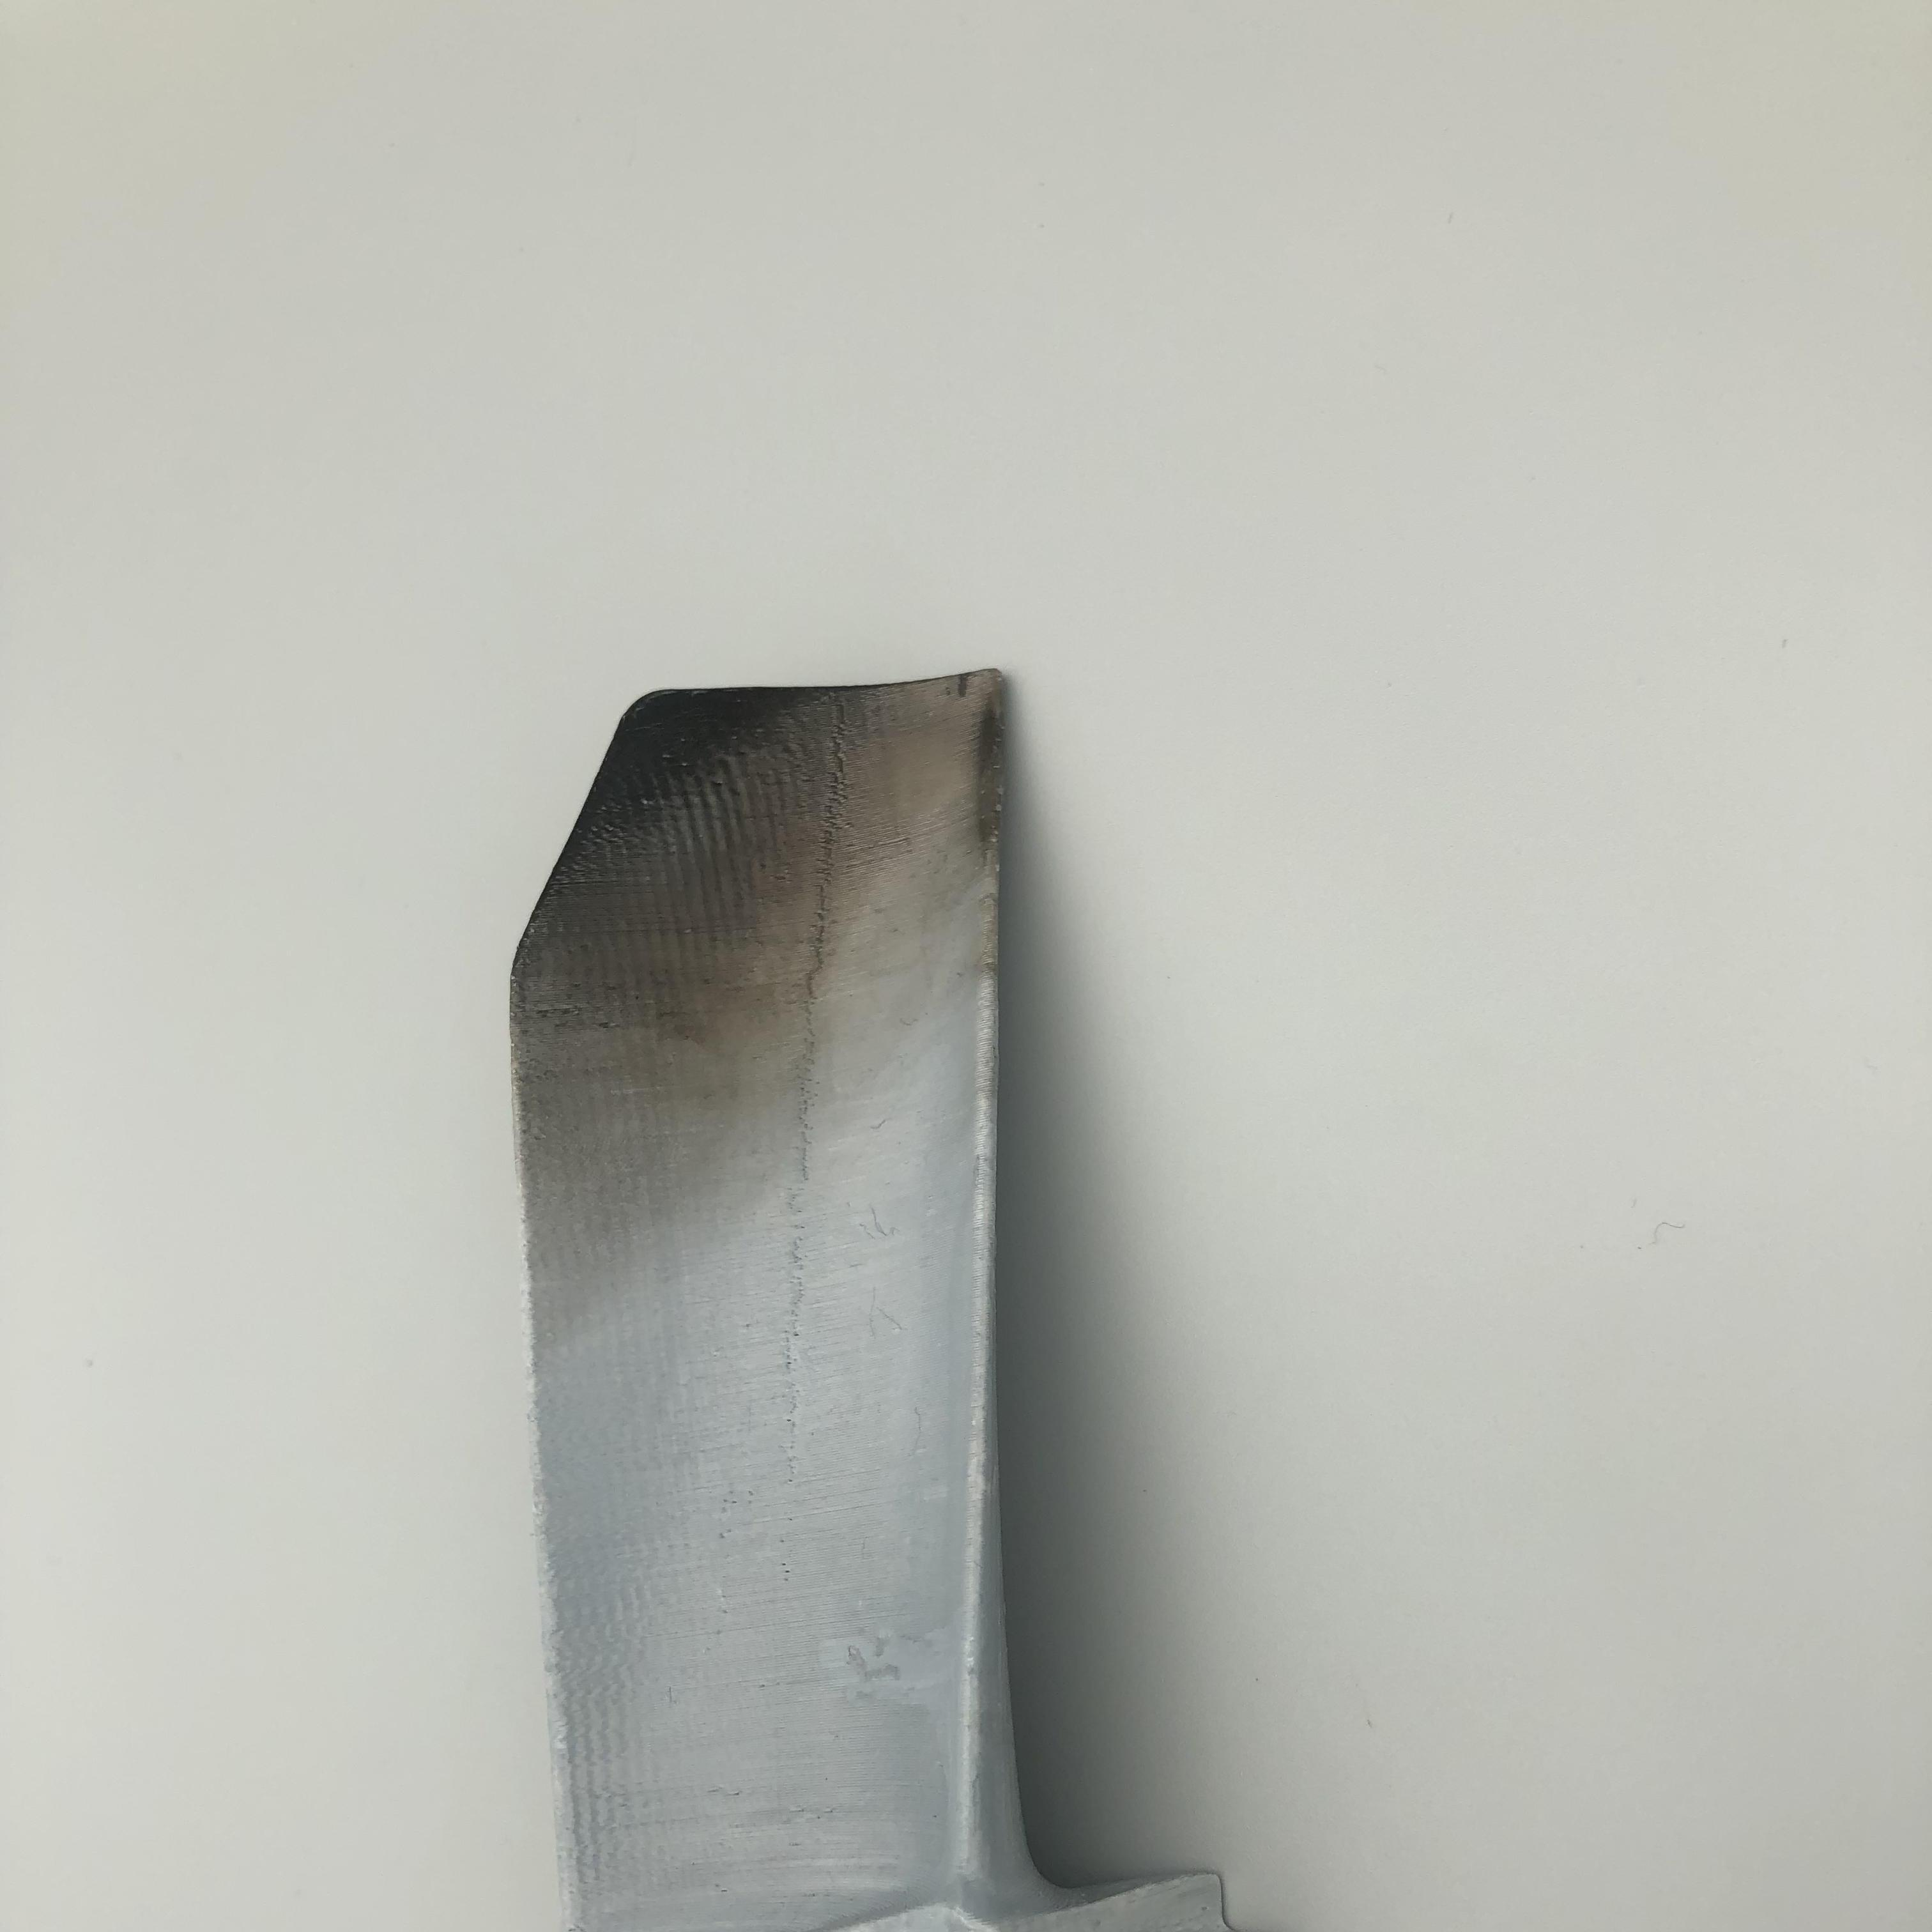ablation: (550, 690, 1000, 1070)
